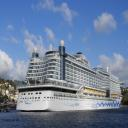cruises: (16, 40, 126, 115)
